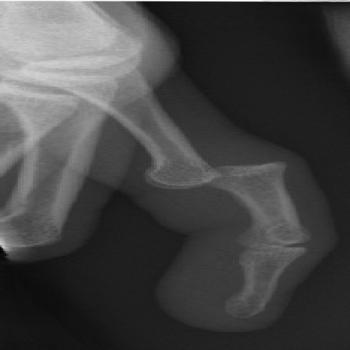Fracture: (163, 152, 294, 193)
